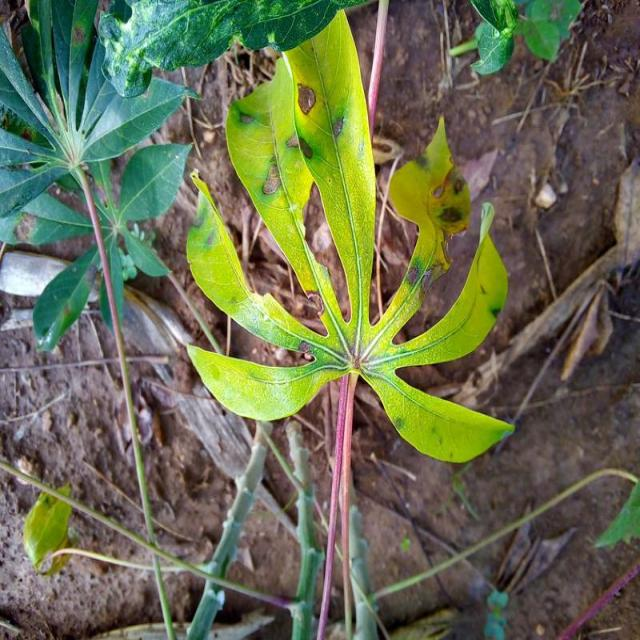cassava leaf: (184, 9, 515, 466)
